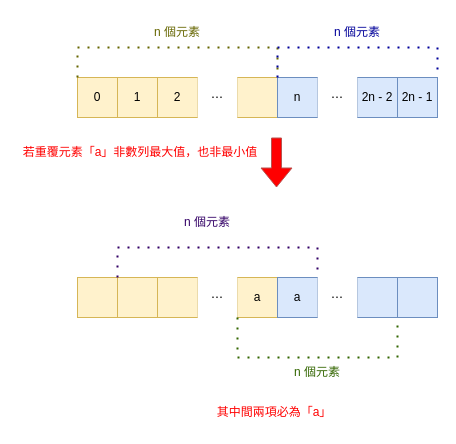
The diagram is 456 pixels wide and 444 high, and some of its shapes have lost their labels. Each missing label, with the box of its shape:
< a: (76, 276, 118, 318)
> a: (396, 276, 438, 318)
n - 1: (236, 76, 278, 118)
